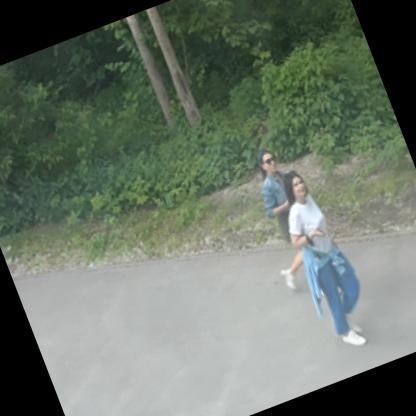Human Body: (266, 158, 388, 356), (232, 136, 338, 297)
